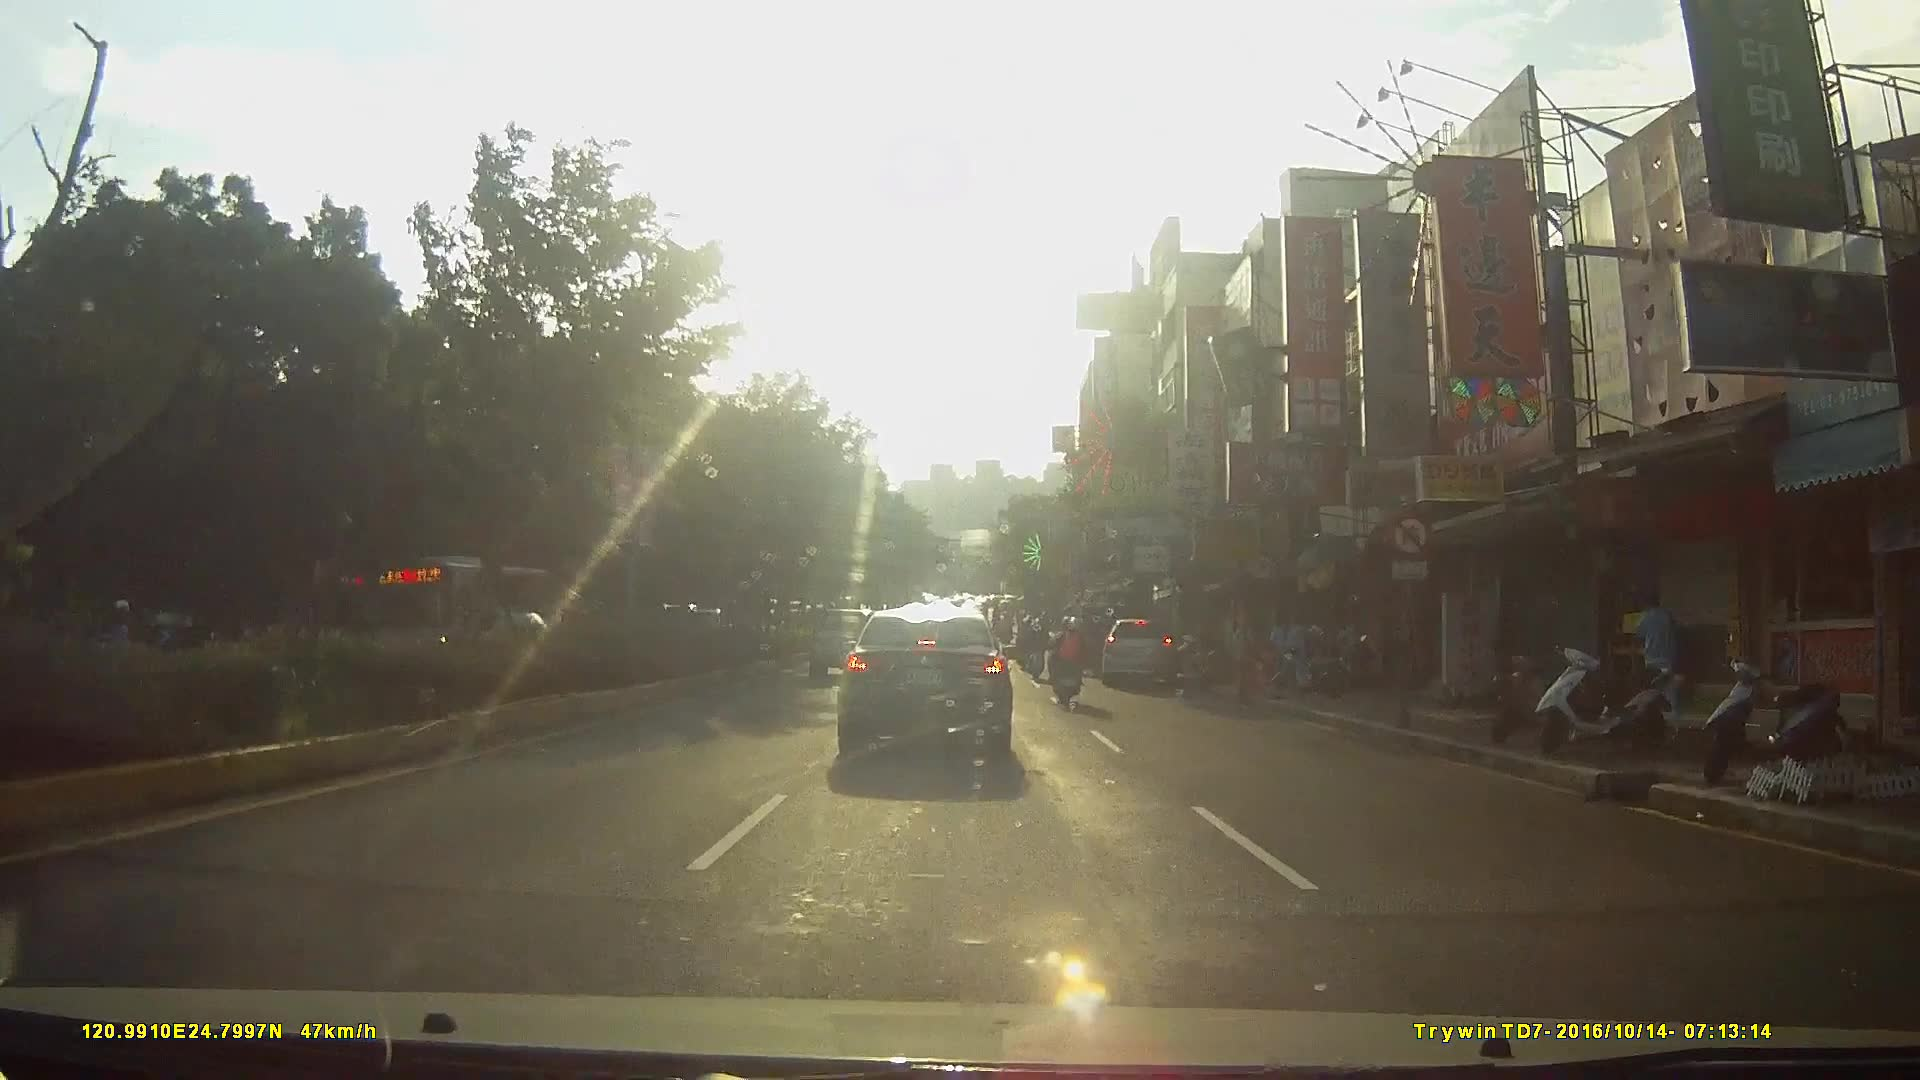pedestrian: (1624, 585, 1678, 711)
rider: (1053, 607, 1097, 704), (1020, 610, 1051, 680)
vehicle: (834, 589, 1032, 760), (359, 547, 558, 651), (1101, 608, 1188, 694)
